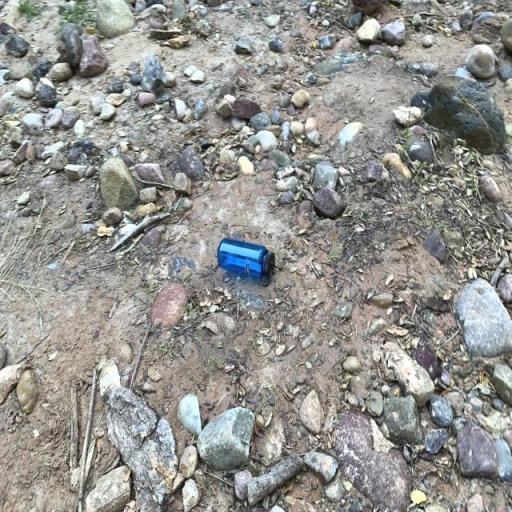bottle: (218, 237, 275, 287)
